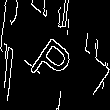P_NE: (28, 24, 82, 86)
